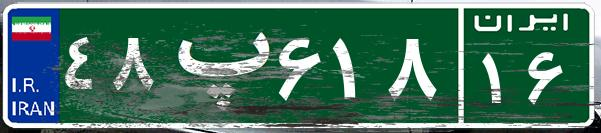1: (330, 28, 385, 110), (475, 38, 525, 113)
4: (57, 26, 110, 107)
6: (273, 28, 330, 110), (525, 38, 570, 115)
8: (385, 28, 445, 110), (110, 28, 158, 105)
پ: (158, 15, 273, 115)
